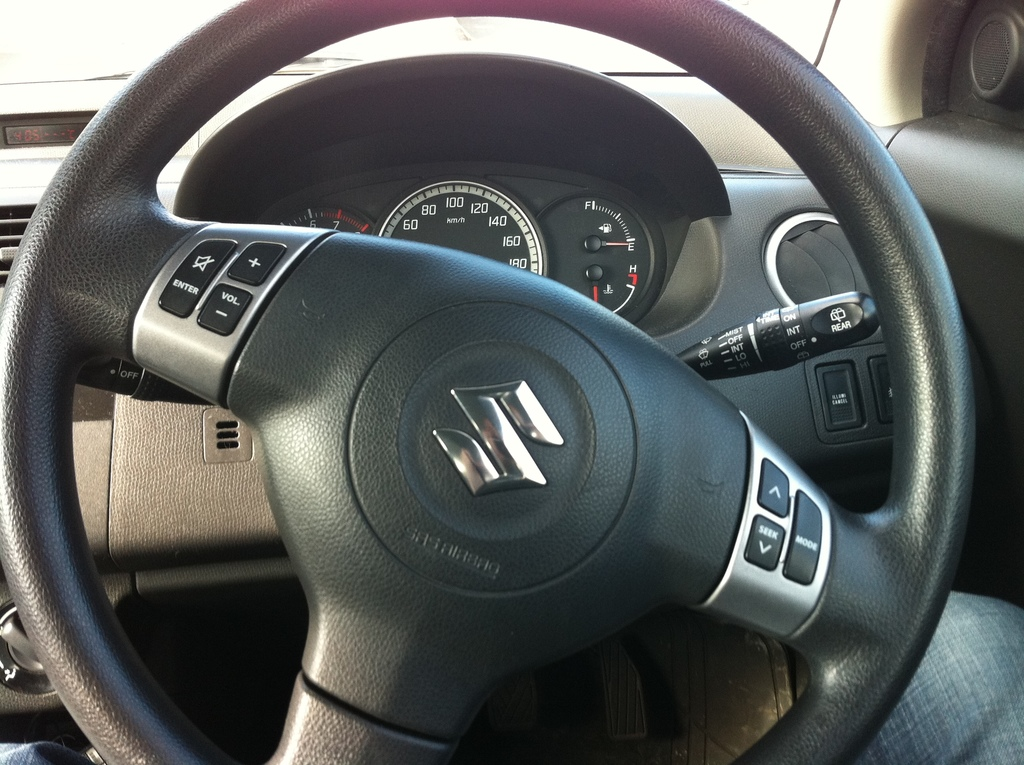Car: (0, 0, 984, 752)
